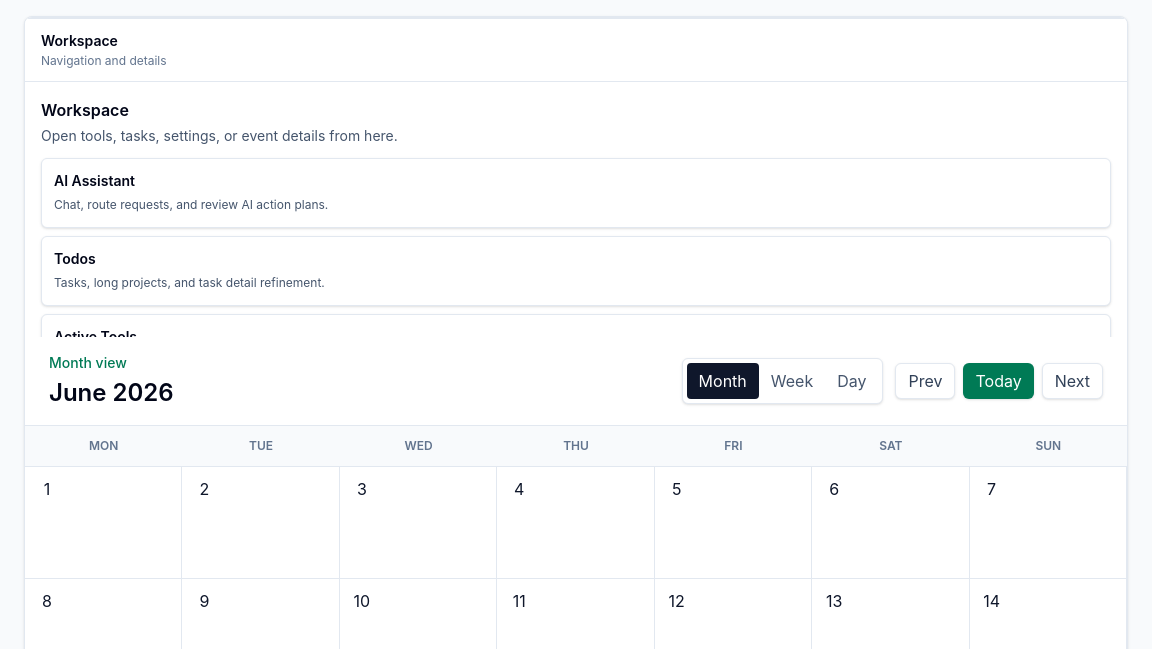
Test: AI demo tools and Todo long projects › creates a Todo long project and updates progress from expanded details
The image size is (1152, 649).
Click the button "Todos": (75, 258) [41,236,1111,306]
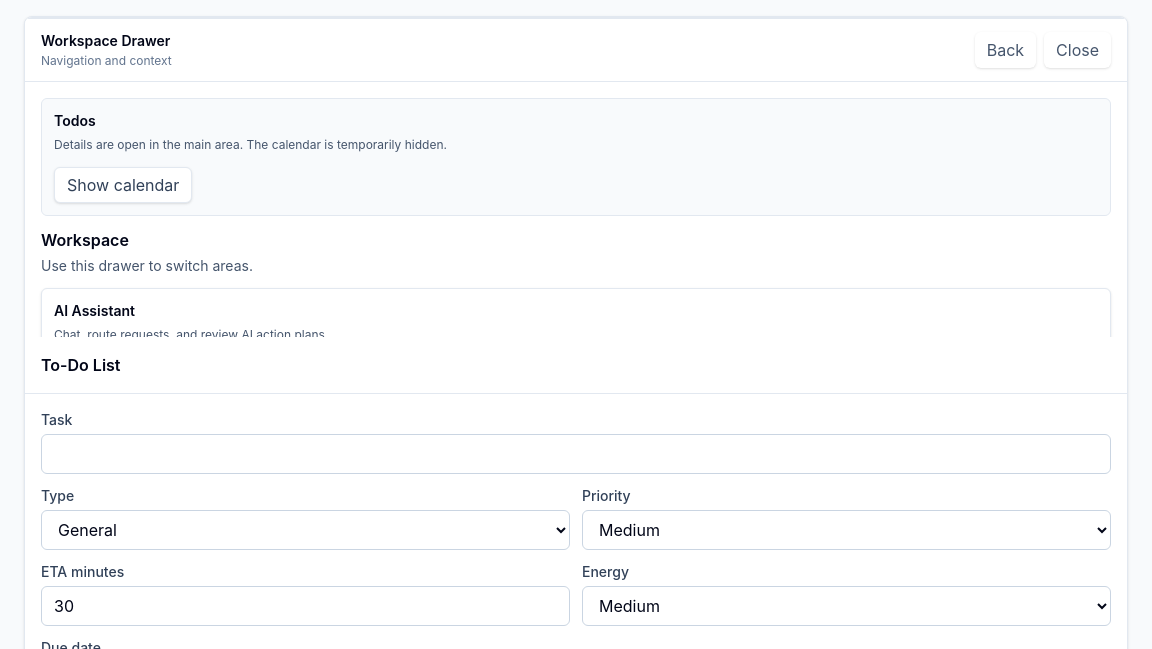
In the field labelled "Task": (576, 454) [41,434,1111,474], type "Launch long project"
(page scrolled)
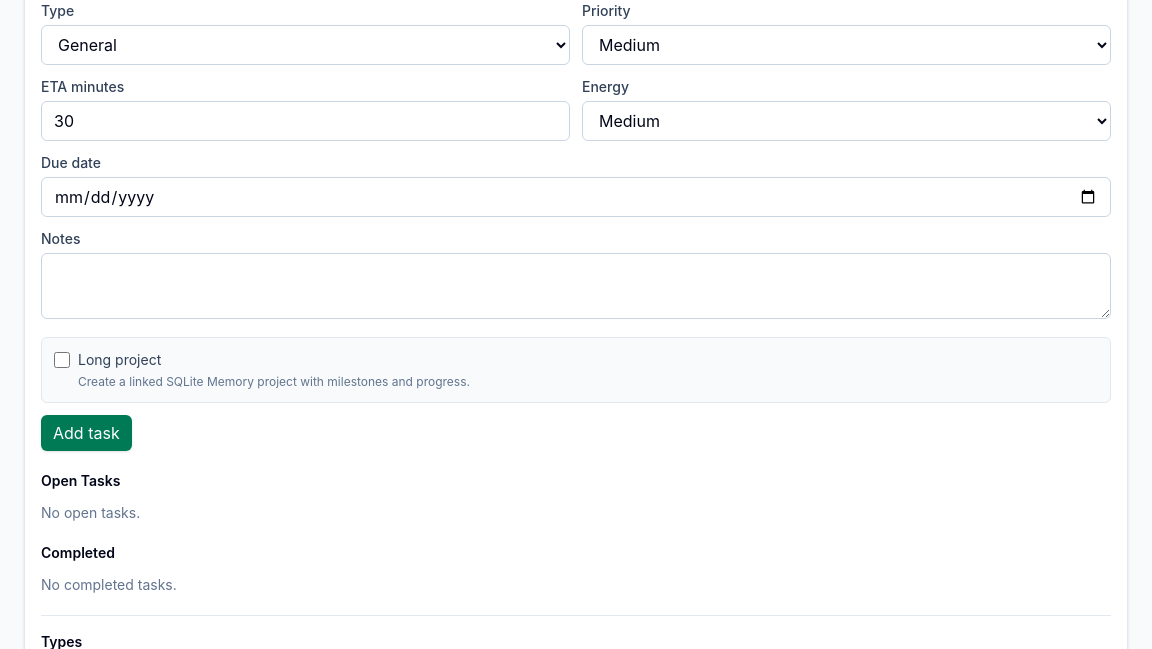
Click the checkbox labelled "Long project": (62, 360) [54,352,70,368]
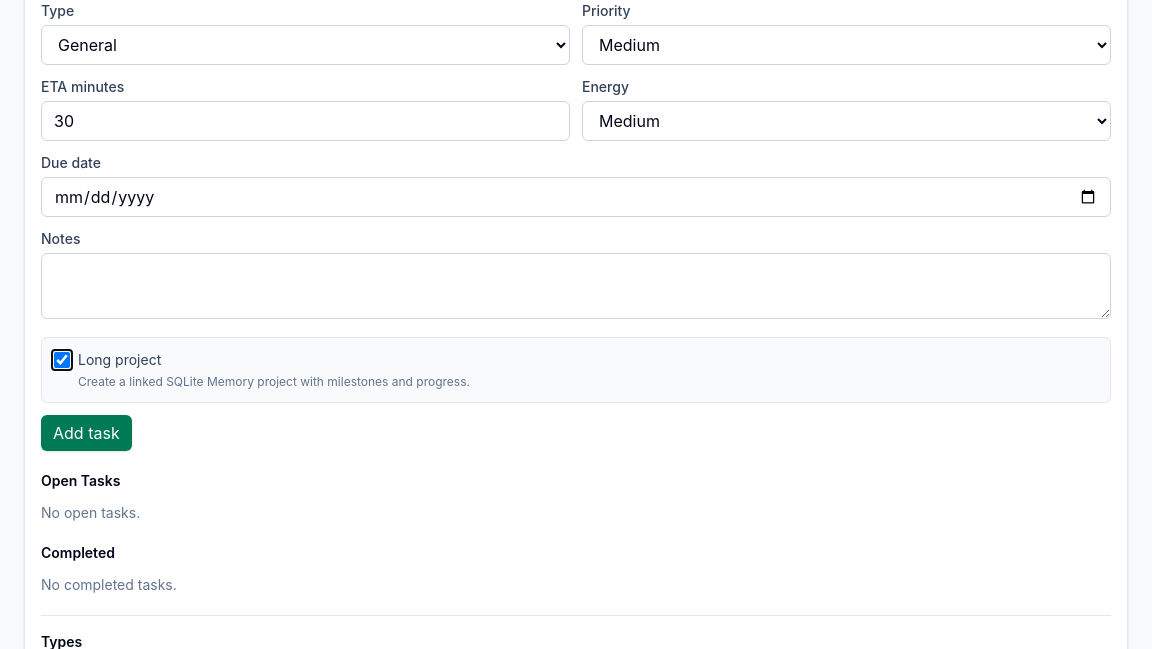
Click the button "Add task": (86, 433) [41,415,132,451]
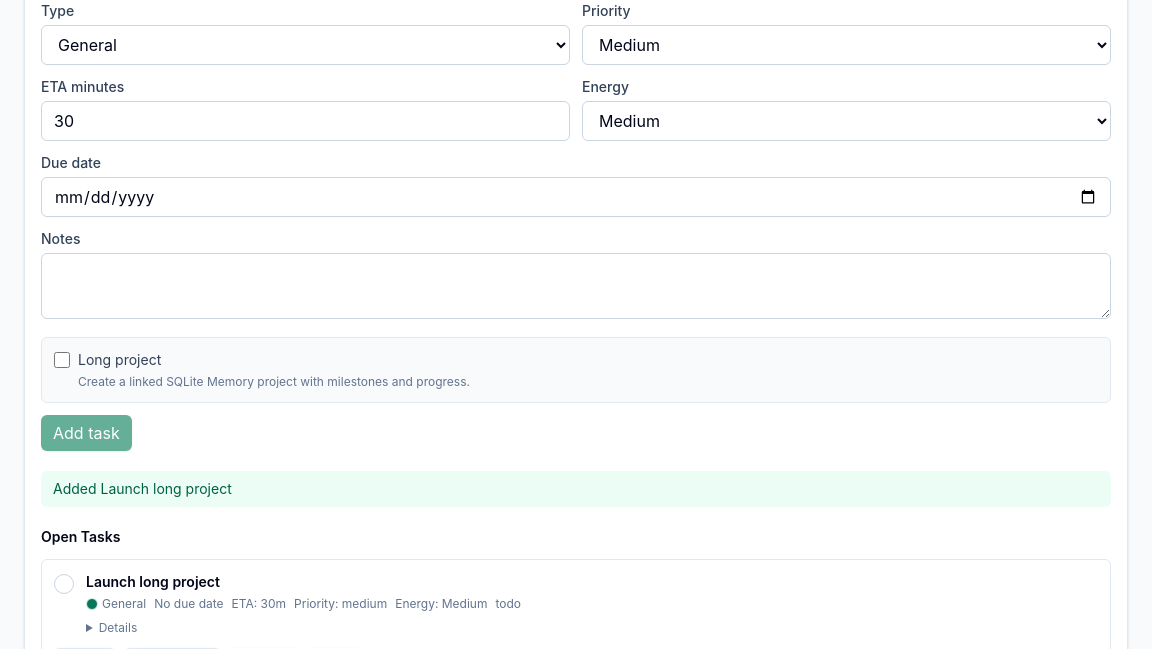
Expected: the text "Launch long project" is shown, [86,573,220,590]
Click the heading "Details": (118, 628) [99,620,137,635]
(page scrolled)
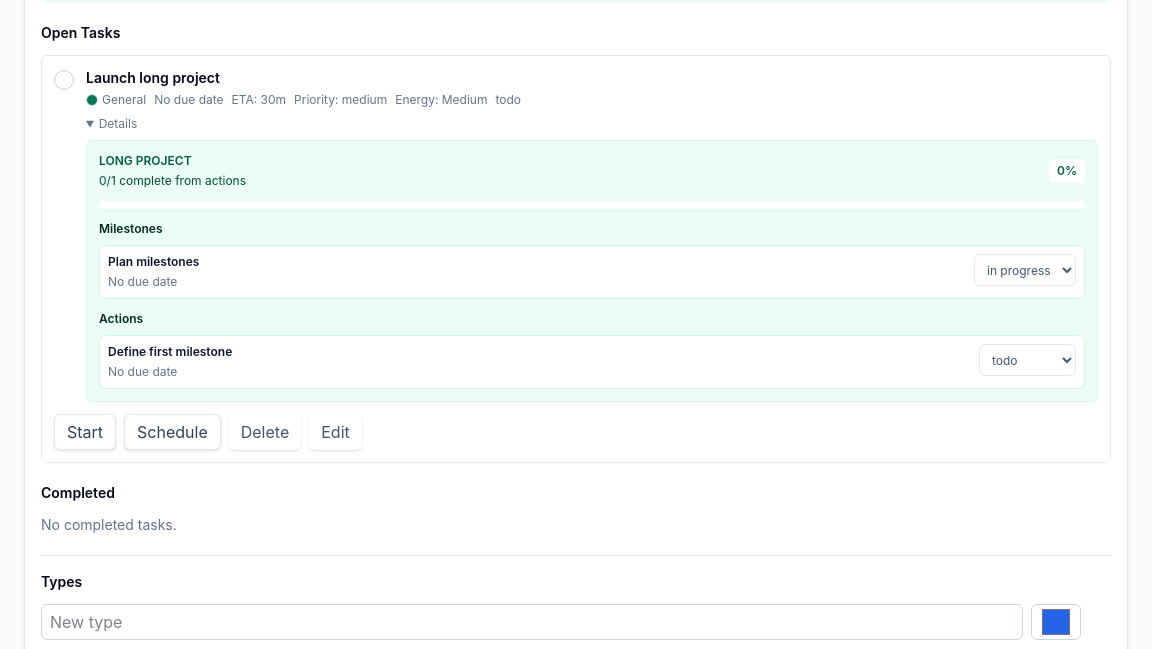
Expected: the text "Long project" is shown, [99,153,192,168]
Expected: the text "0/1 complete from actions" is shown, [99,173,246,189]
Select "done" in the dropdown named "Long project action status for Define first milestone": (1028, 360) [979,344,1076,376]
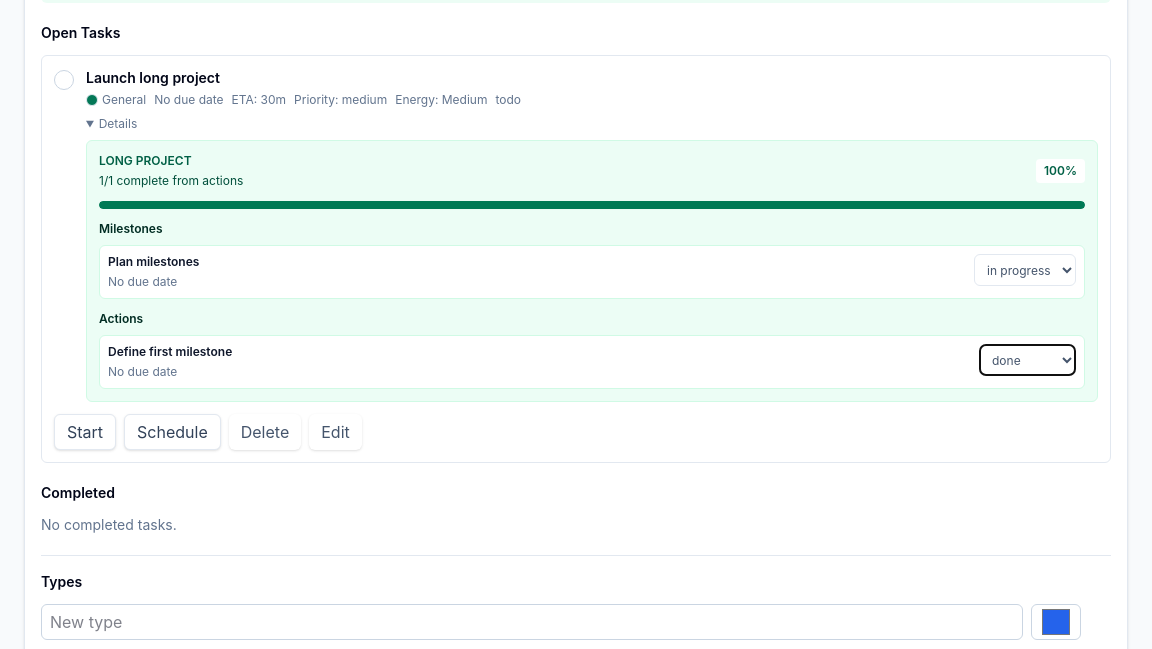
Expected: the text "1/1 complete from actions" is shown, [99,173,243,189]
Expected: the text "100%" is shown, [1036,159,1085,183]
